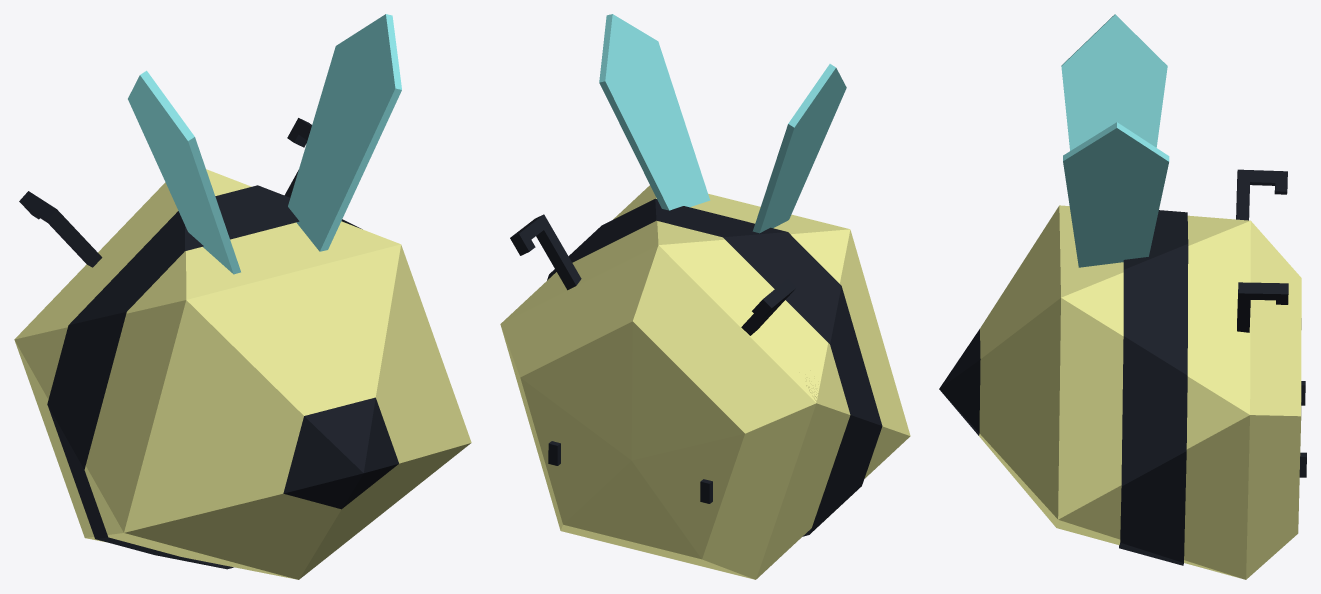
Rendered from bee_zy_orientation.fbx.
3 views of the same model, side by side, from view 1: azimuth 30°, elevation 25°; view 2: azimuth 150°, elevation 25°; view 3: azimuth 270°, elevation 25° (orthographic). The views are drawn at different scales.
Parts seen in each view (by area): view 1: bee; view 2: bee; view 3: bee.
Boxes of the visible parts, x1=… form: bee: x1=14, y1=14, x2=471, y2=579; bee: x1=500, y1=14, x2=910, y2=579; bee: x1=939, y1=14, x2=1306, y2=579.
Bounding box in the file's own units: 28.98 × 40.61 × 28.89.
